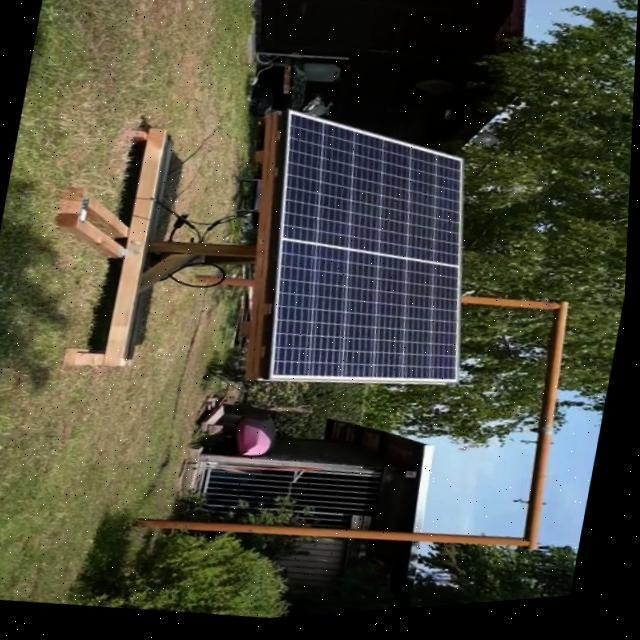Normal Solar Panel: (238, 104, 502, 414)
